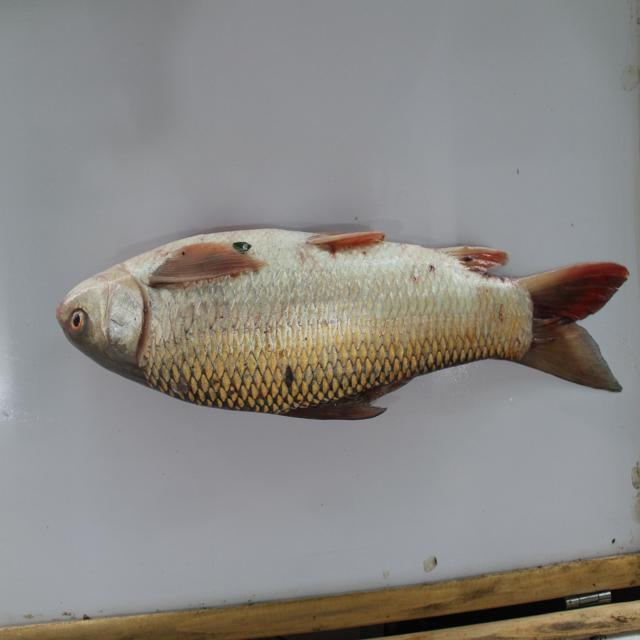Mori: (57, 195, 637, 439)
